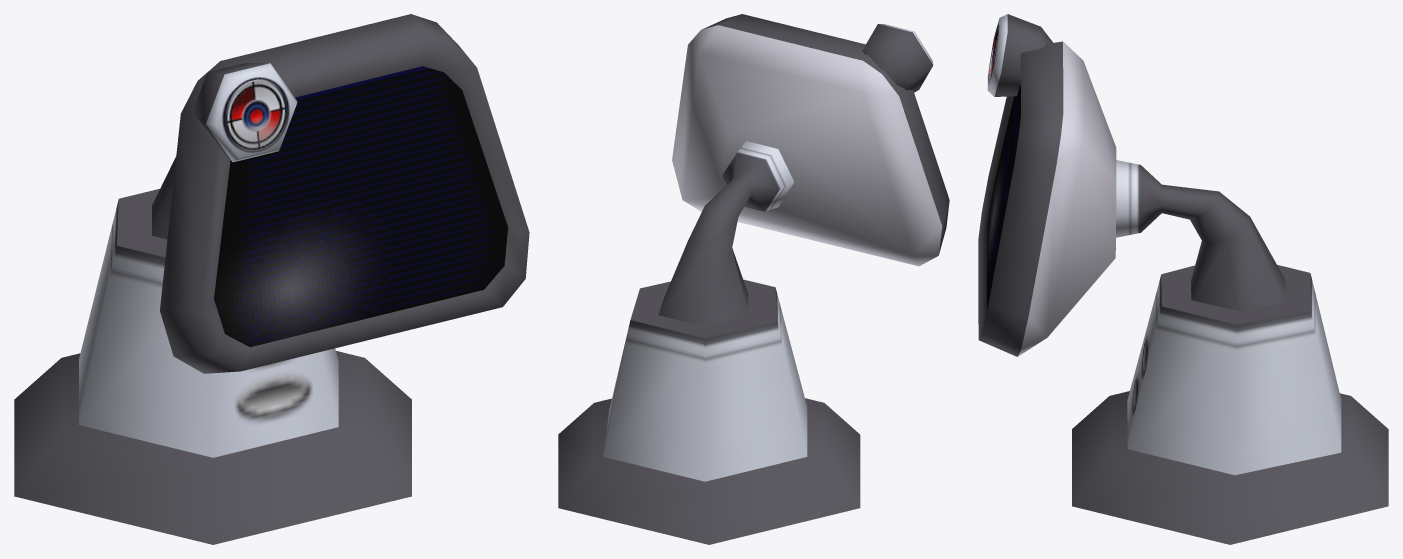
Rendered from Computer Screen.obj.
The picture shows the model from 3 angles, left to right: view 1: azimuth 30°, elevation 25°; view 2: azimuth 150°, elevation 25°; view 3: azimuth 270°, elevation 25°; orthographic projection. The views are drawn at different scales.
Visible parts, largest first — view 1: mesh0, mesh1; view 2: mesh0; view 3: mesh0, mesh1.
Boxes of the visible parts, bbox=[...] form: mesh0: bbox=[14, 14, 529, 544]; mesh1: bbox=[214, 66, 507, 347]; mesh0: bbox=[558, 14, 949, 544]; mesh0: bbox=[978, 14, 1388, 544]; mesh1: bbox=[987, 84, 1020, 309].
Bounding box in the file's own units: 2.17 × 2.64 × 2.43.
Materials: 2 (2 with a texture image).
